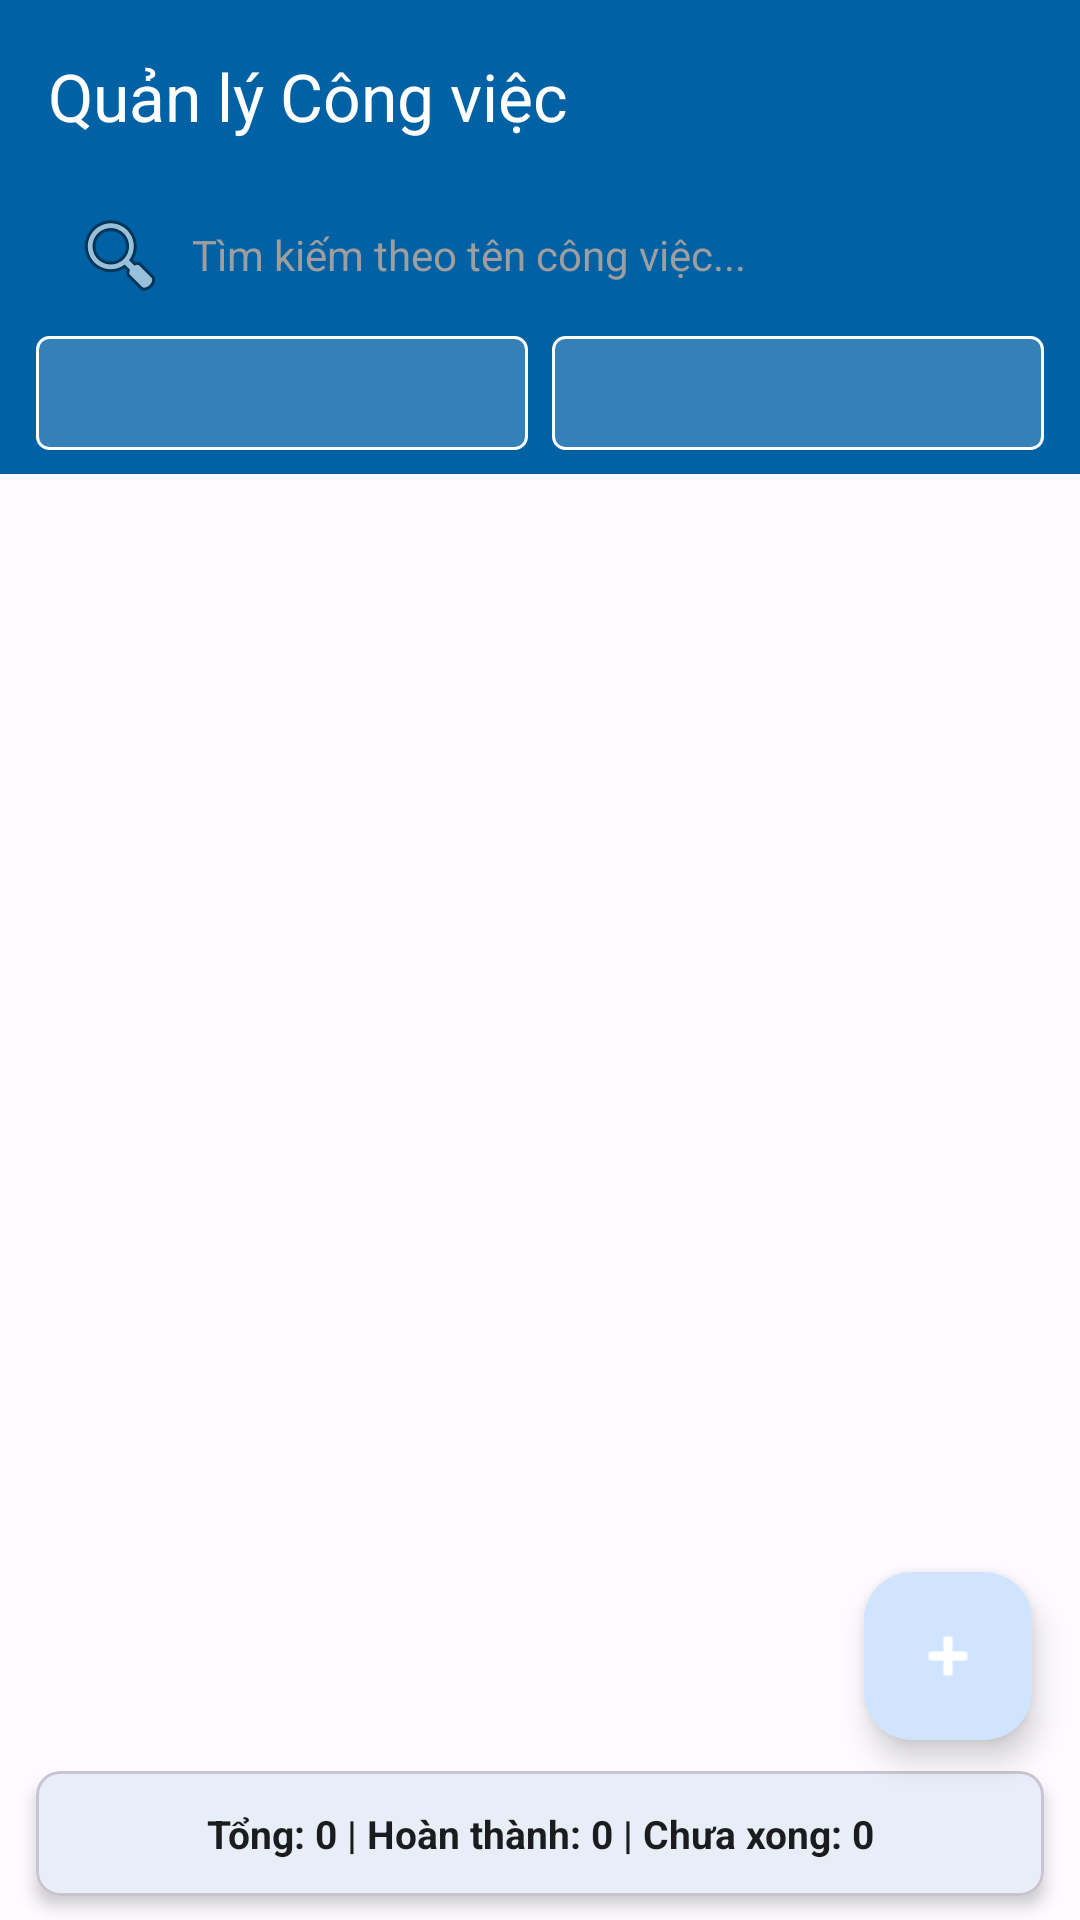

Icon bounding boxes for this 1080px x 1920px phone screenshot, format (x1, y1, x2, y2):
Thêm công việc mới: (864, 1572, 1032, 1740)
